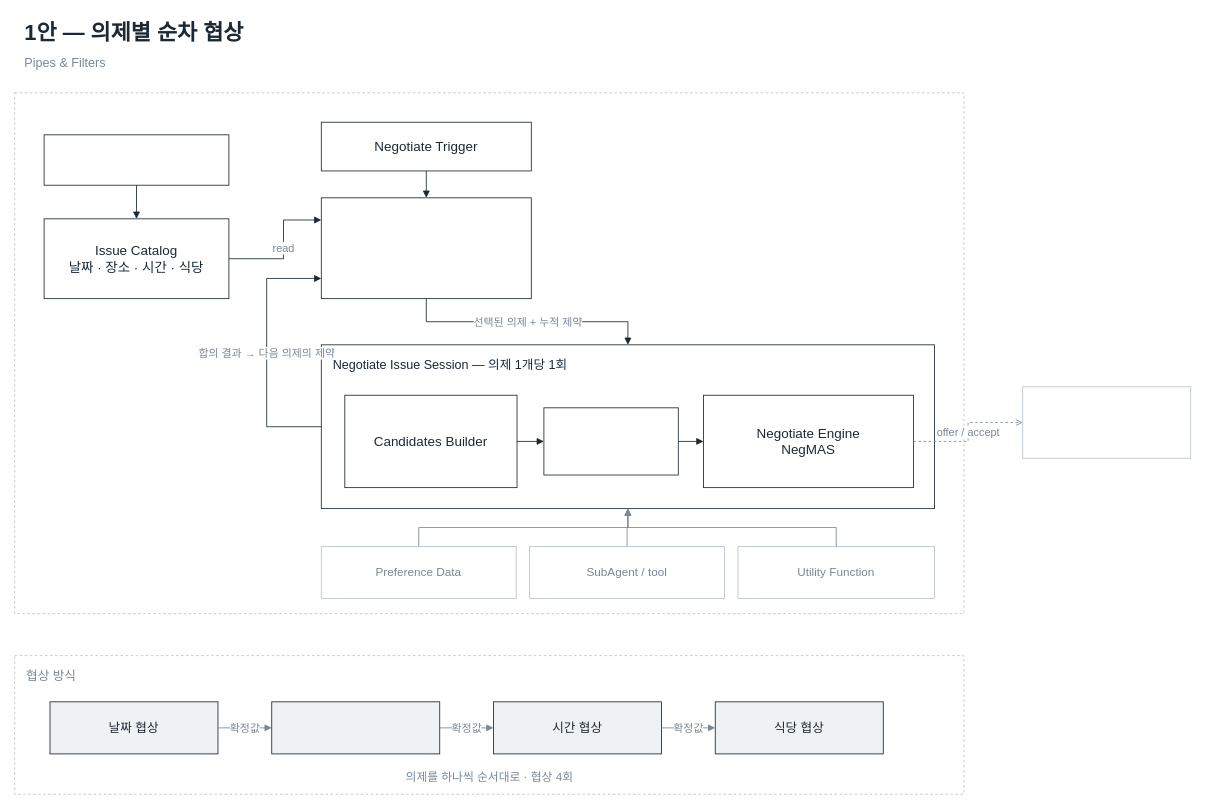
Some shapes in this 1205 by 809 pixel diagram are drawn without their labels. Each missing label, with the box of its shape:
Candidate List: (543, 407, 678, 475)
Issue Selector 의제 1개 선택 직전 합의를 제약으로 누적: (320, 197, 531, 299)
Planner: (43, 134, 229, 185)
단말: (14, 92, 964, 614)
상대 단말 Negotiate Engine: (1022, 386, 1191, 458)
장소 협상: (271, 701, 440, 754)
